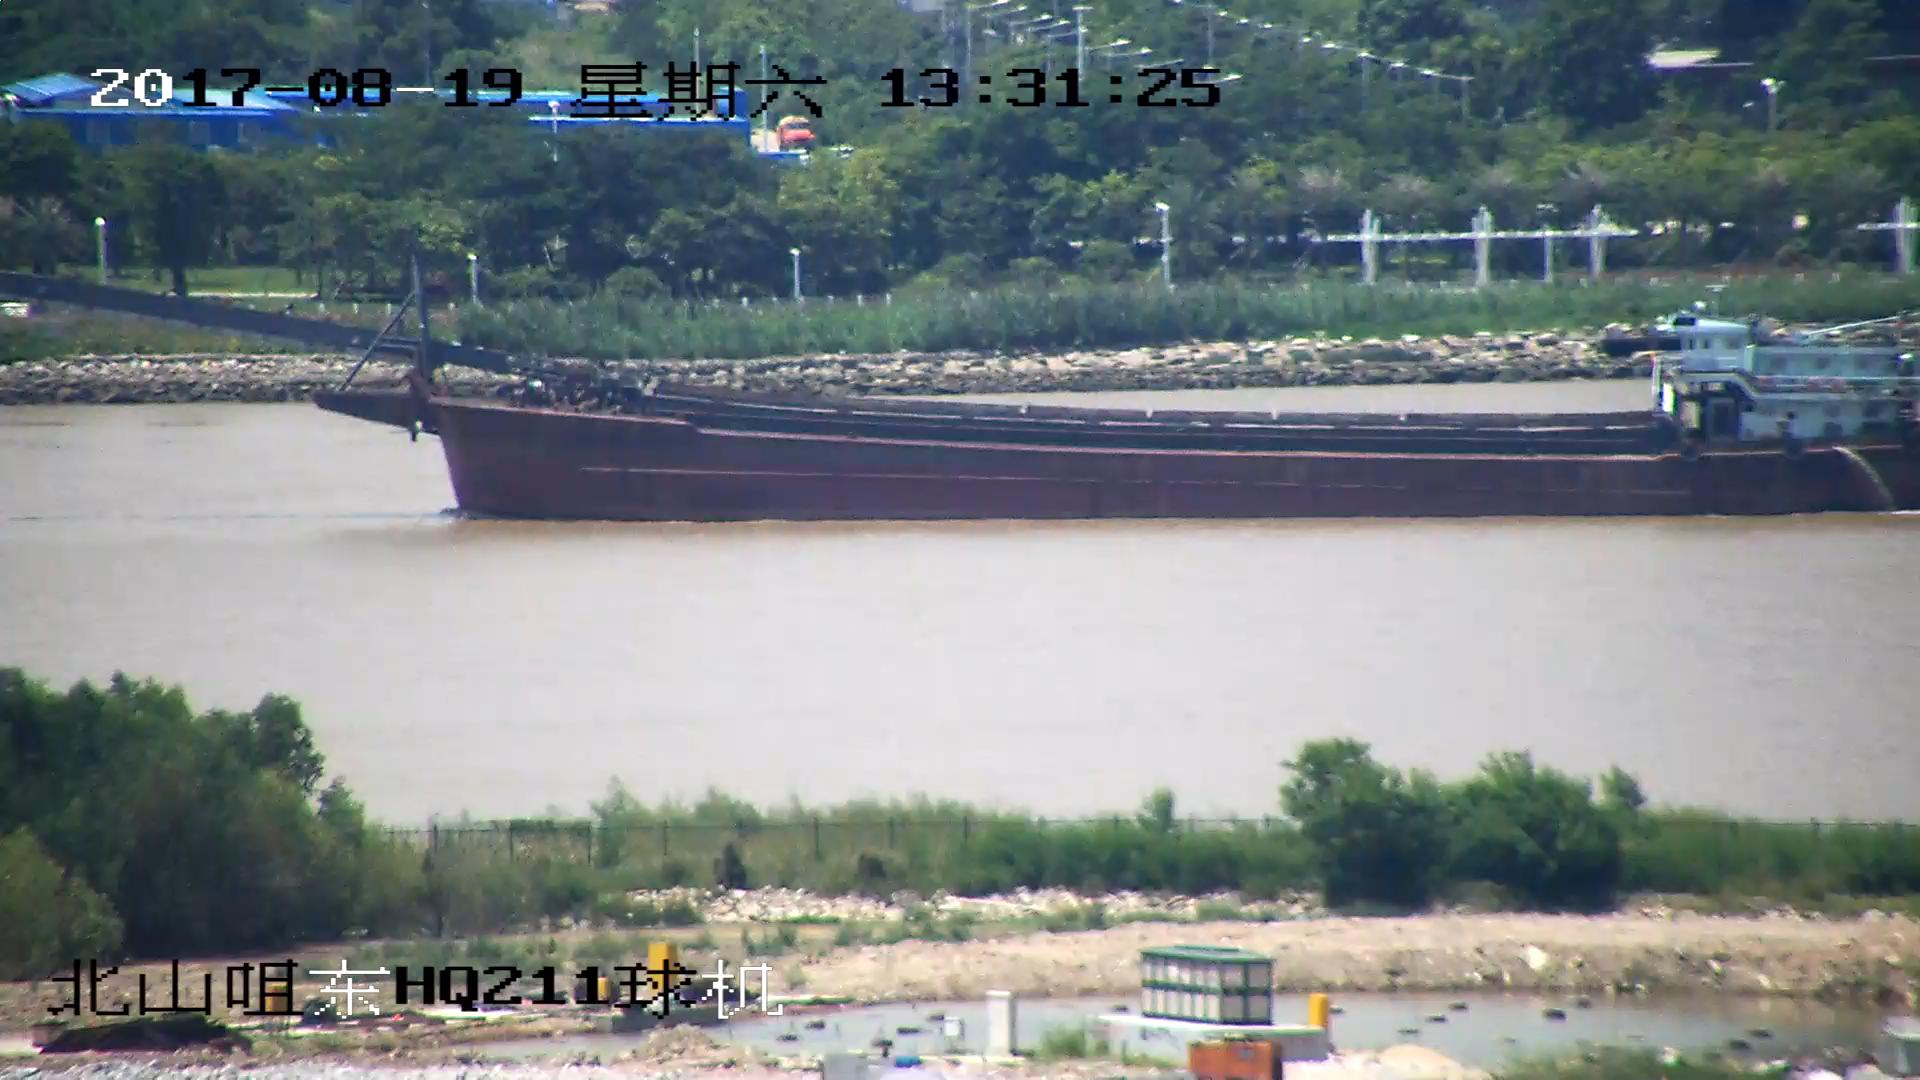bulk cargo carrier: (1, 267, 1920, 522)
